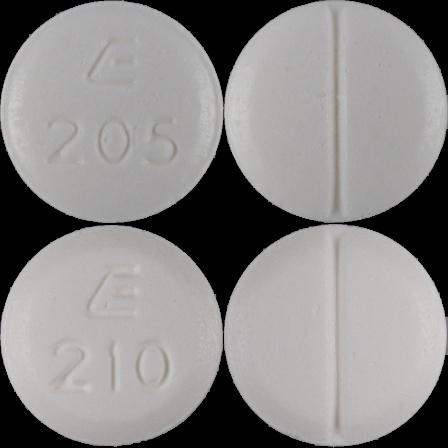0185-0205: (0, 0, 224, 224)
